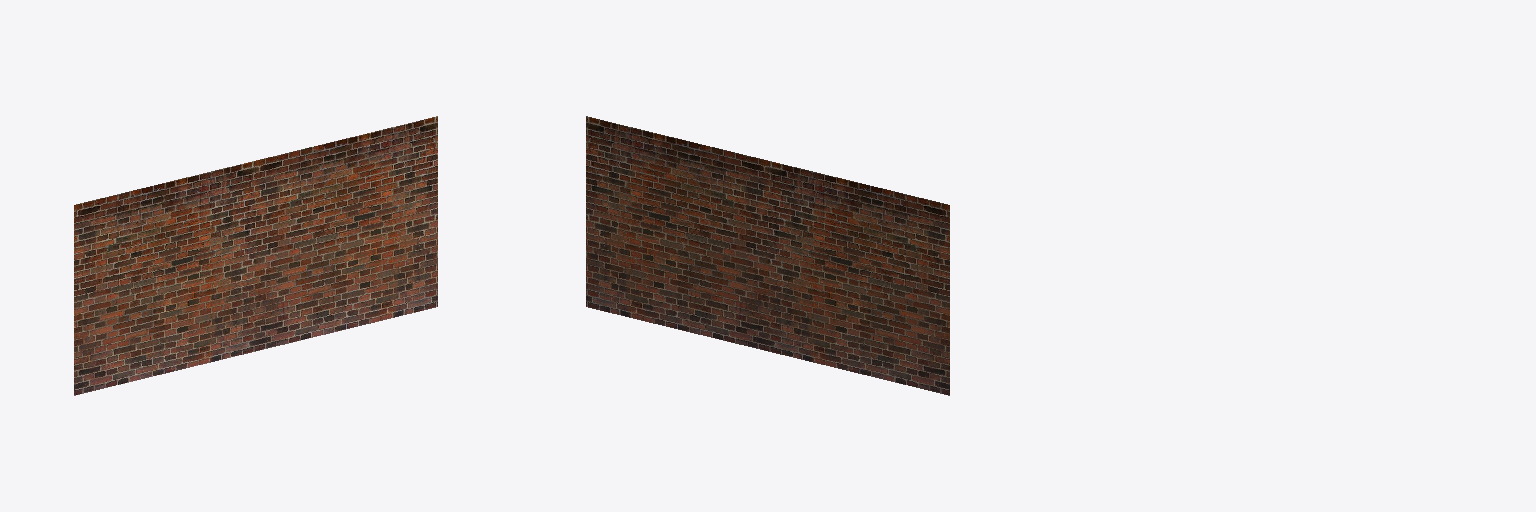
3 views of the same model, side by side, from view 1: azimuth 30°, elevation 25°; view 2: azimuth 150°, elevation 25°; view 3: azimuth 270°, elevation 25° (orthographic).
Parts seen in each view (by area): view 1: Plane.001, Plane.004; view 2: Plane.001, Plane.004; view 3: none.
Part boxes in pixels (bbox=[...]): Plane.001: bbox=[256, 116, 437, 350]; Plane.004: bbox=[74, 161, 255, 395]; Plane.001: bbox=[586, 116, 767, 350]; Plane.004: bbox=[768, 161, 949, 395].
Bounding box in the file's own units: 4 × 2 × 0.
Materials: 2 (1 with a texture image).